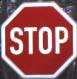Stop sign: (0, 0, 76, 78)
